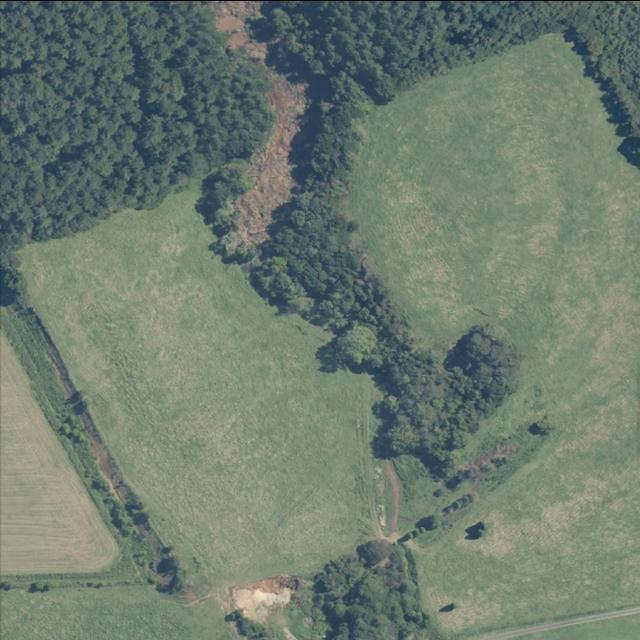landslide: (197, 70, 306, 262), (208, 0, 265, 58), (232, 576, 298, 623)
